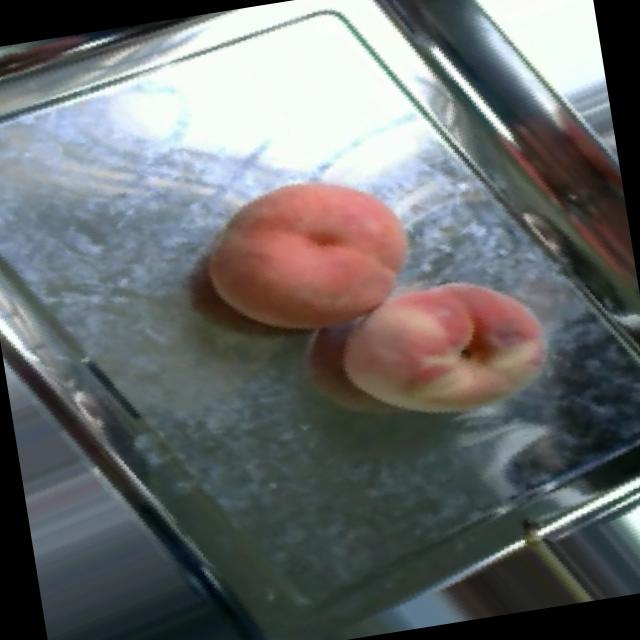Fruit: (174, 143, 442, 376), (305, 247, 579, 468)
